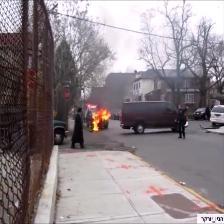fire: (88, 103, 114, 139)
